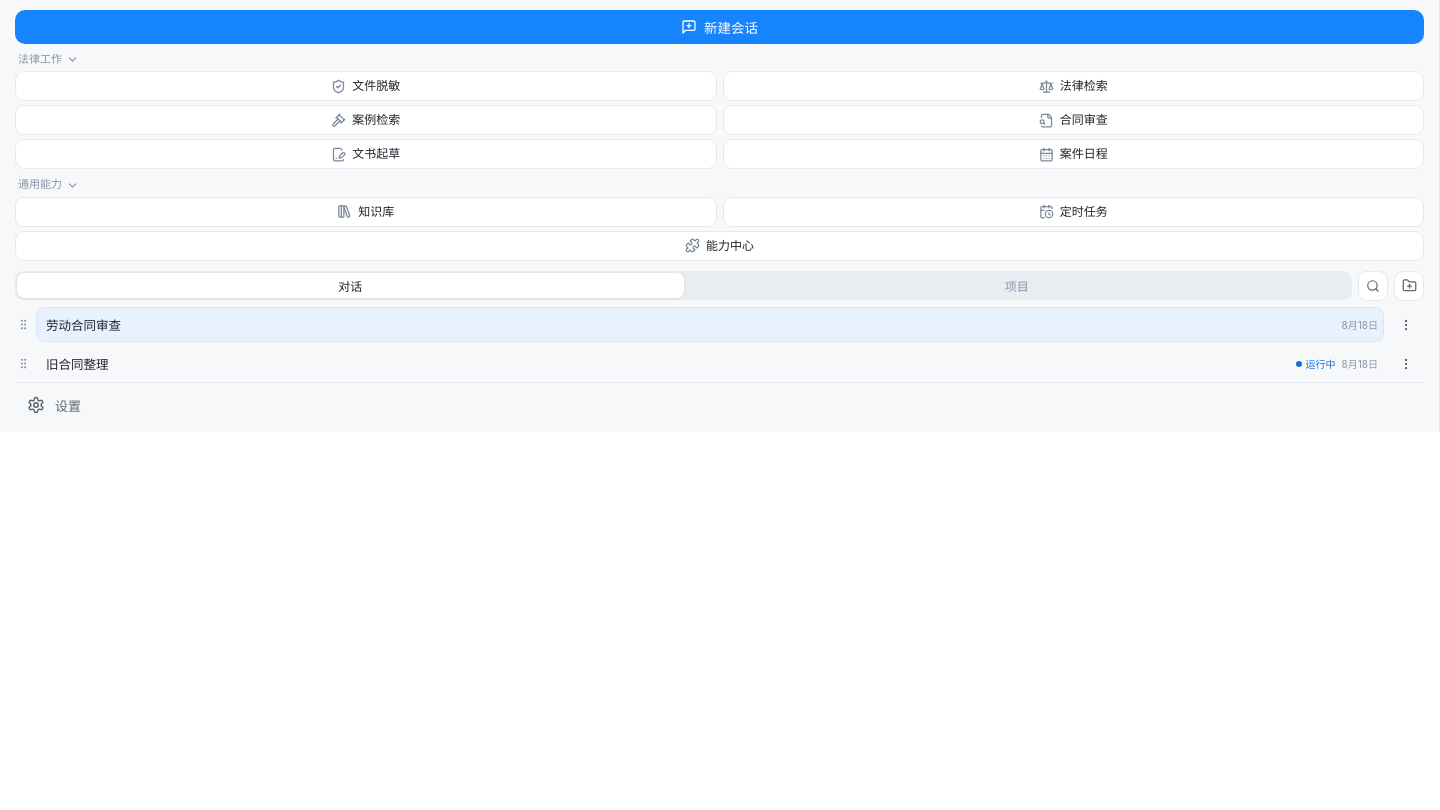
打开项目文件夹后分别收起功能分组，文件在会话上方并可切换项目
The image size is (1440, 810).
Click the tab "项目" at (1017, 286), box top-left (684, 273), bottom-right (1350, 298)
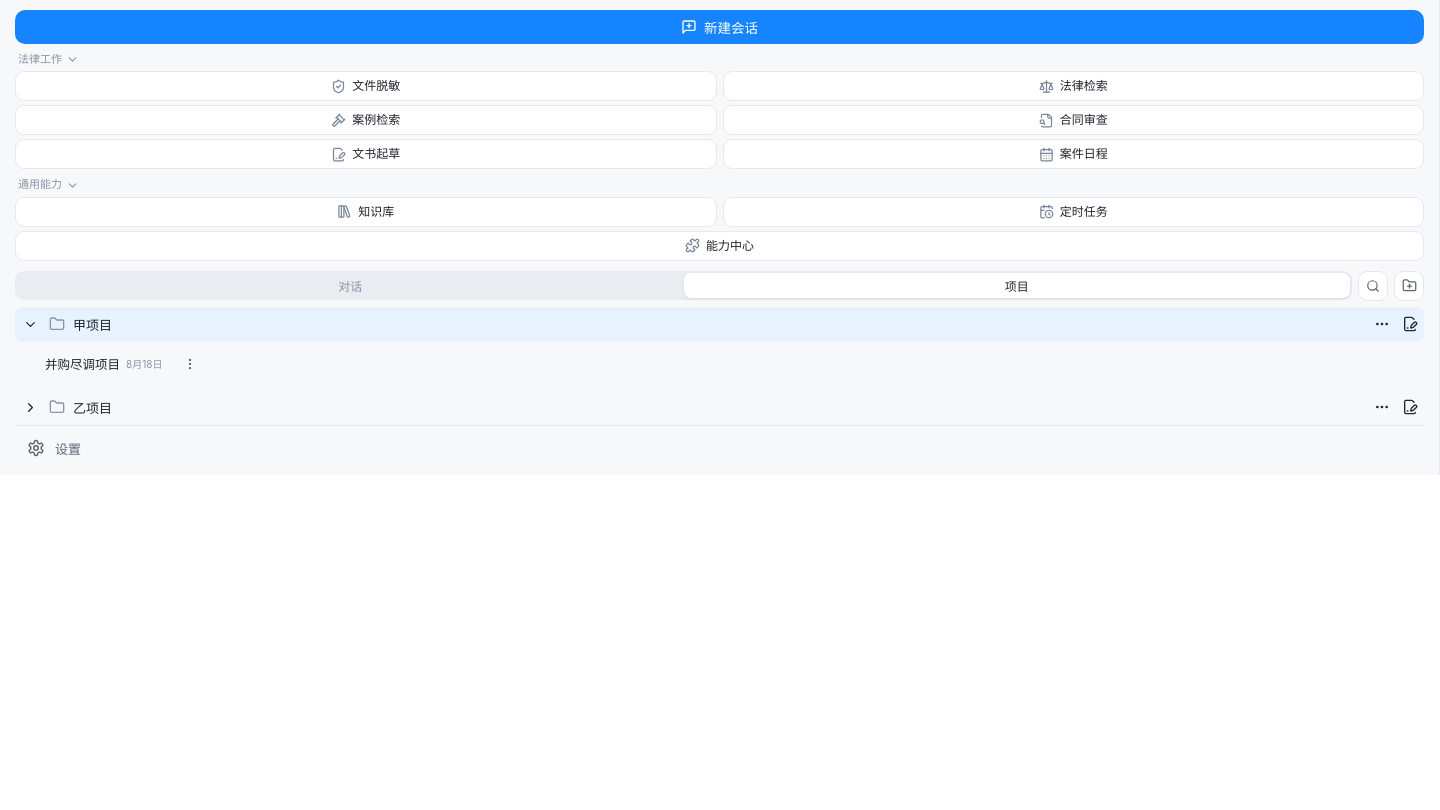
Click the button named "项目菜单：甲项目" at (1382, 324), box top-left (1368, 309), bottom-right (1396, 339)
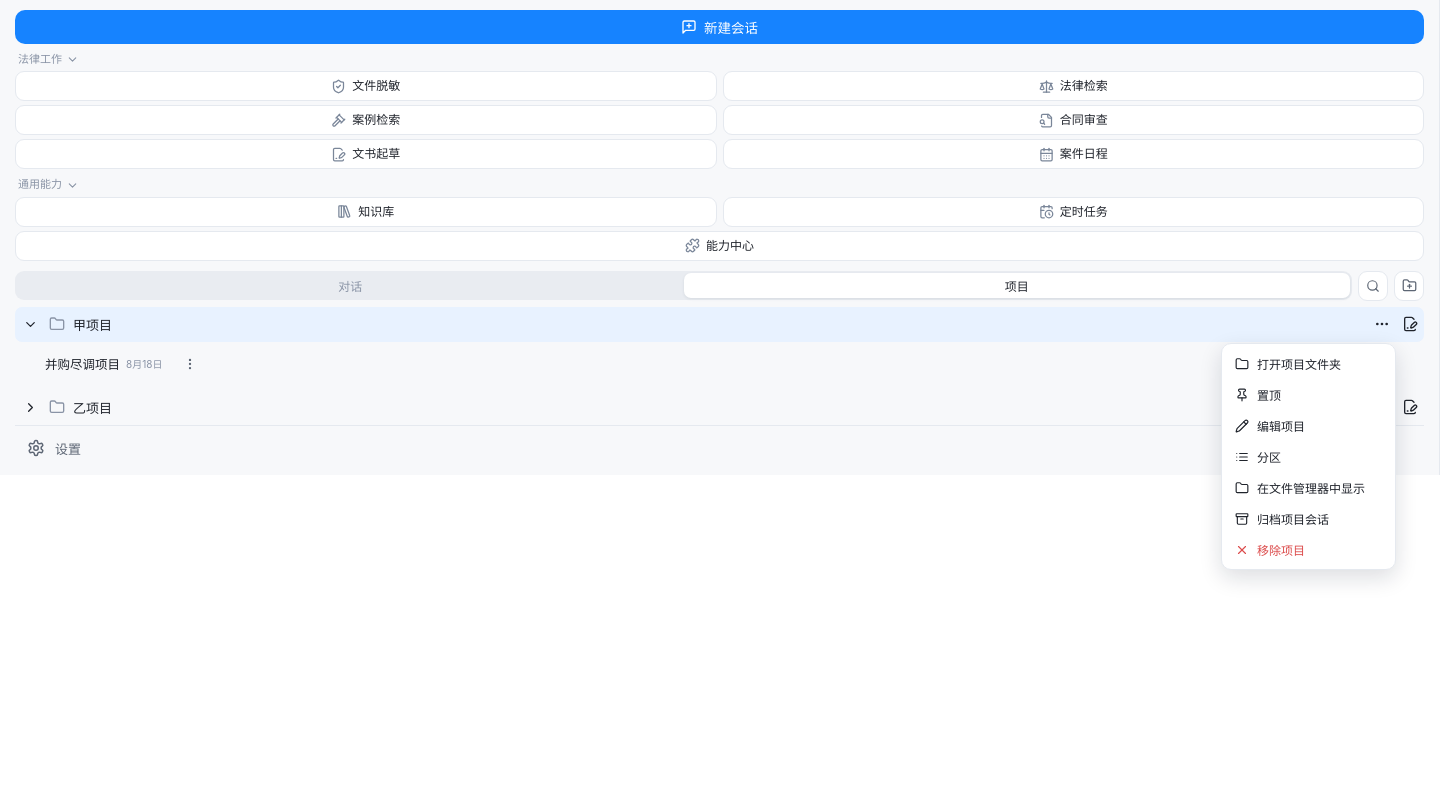
Click the menu item "打开项目文件夹" at (1308, 364), box top-left (1226, 348), bottom-right (1391, 379)
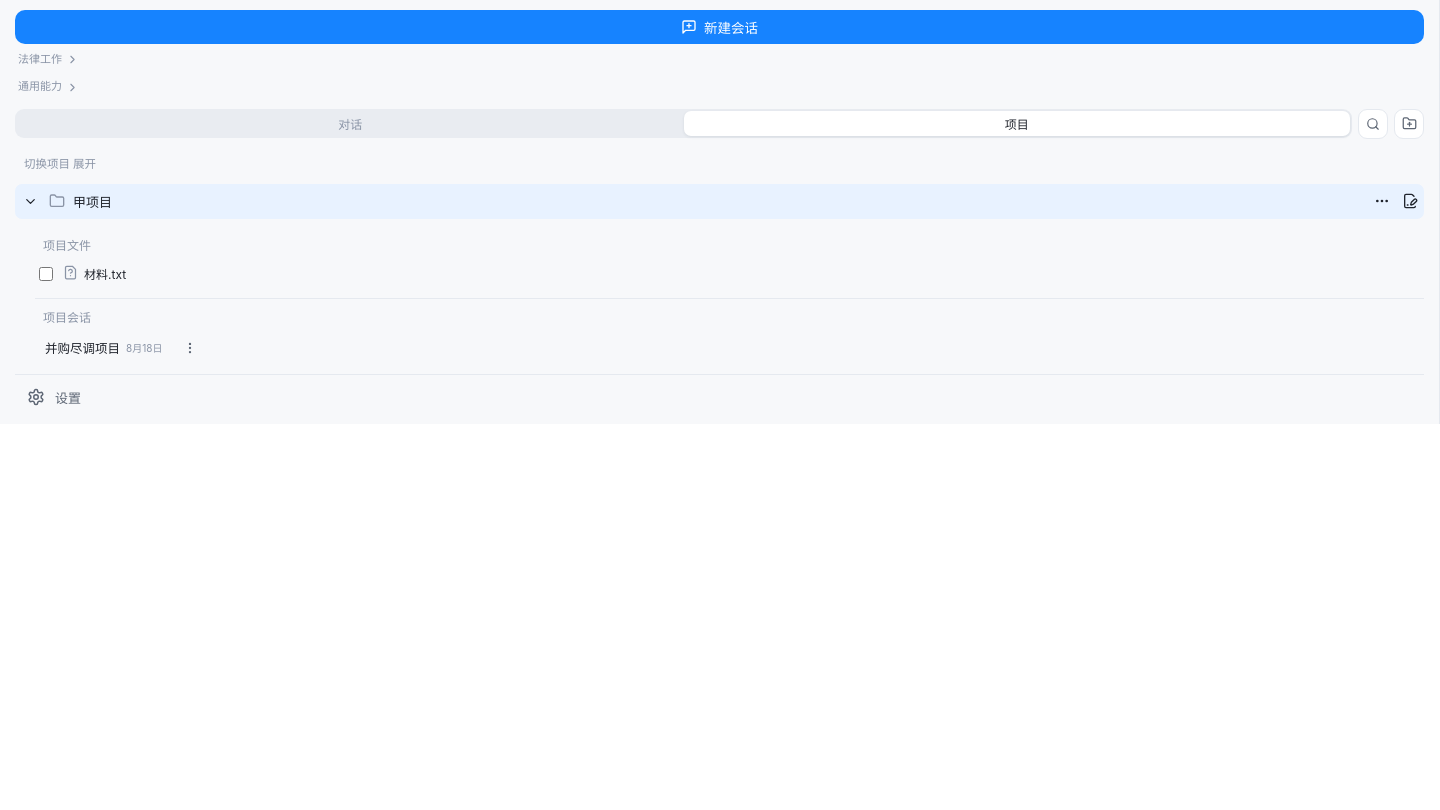
Result: the button "法律工作" is collapsed at top-left (18, 52), bottom-right (1421, 67)
Result: the button "通用能力" is collapsed at top-left (18, 79), bottom-right (1421, 95)
Result: the button "乙项目" is gone
Click the button "切换项目 展开" at (48, 164), box top-left (15, 148), bottom-right (1424, 178)
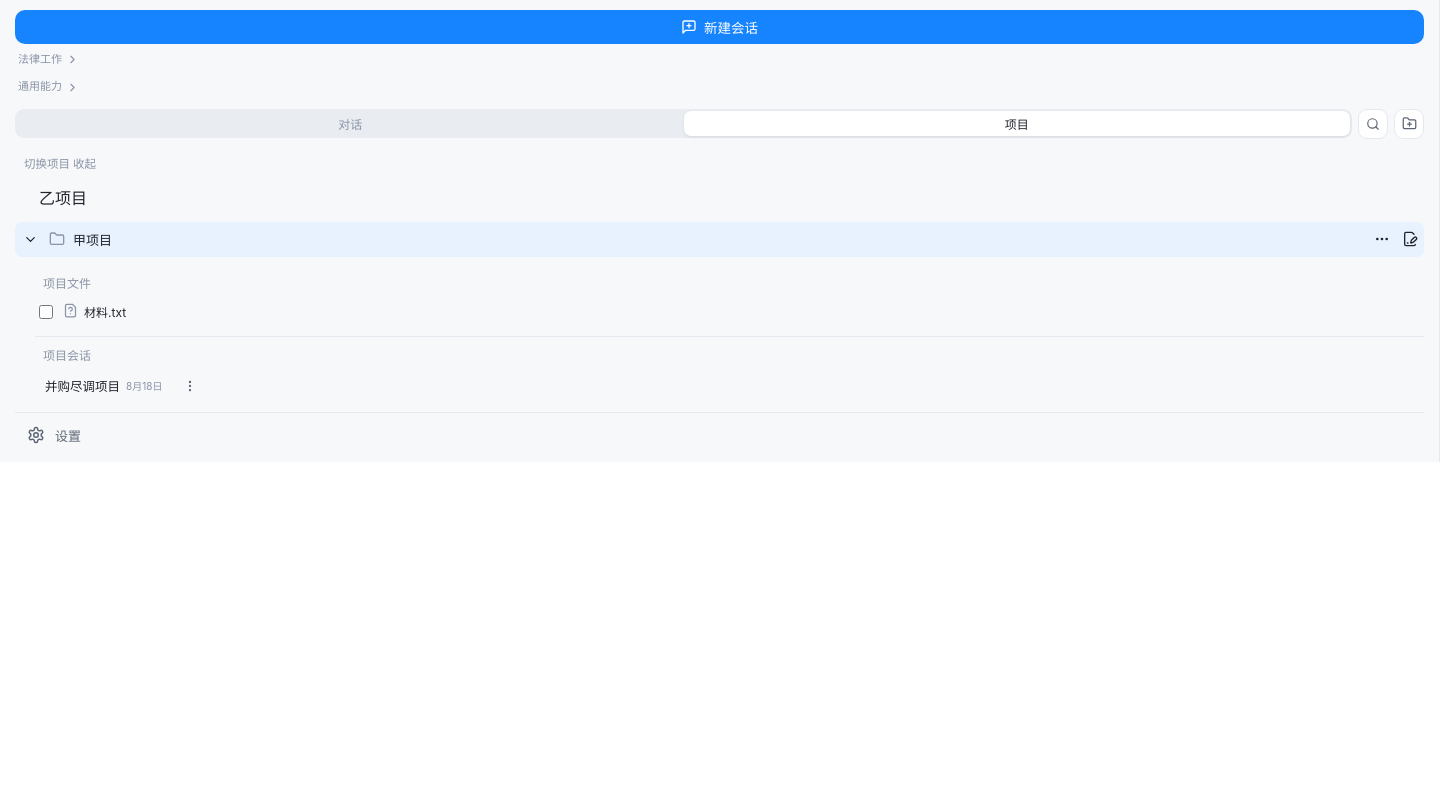
Click the button "乙项目" at (63, 198), box top-left (29, 178), bottom-right (1424, 216)
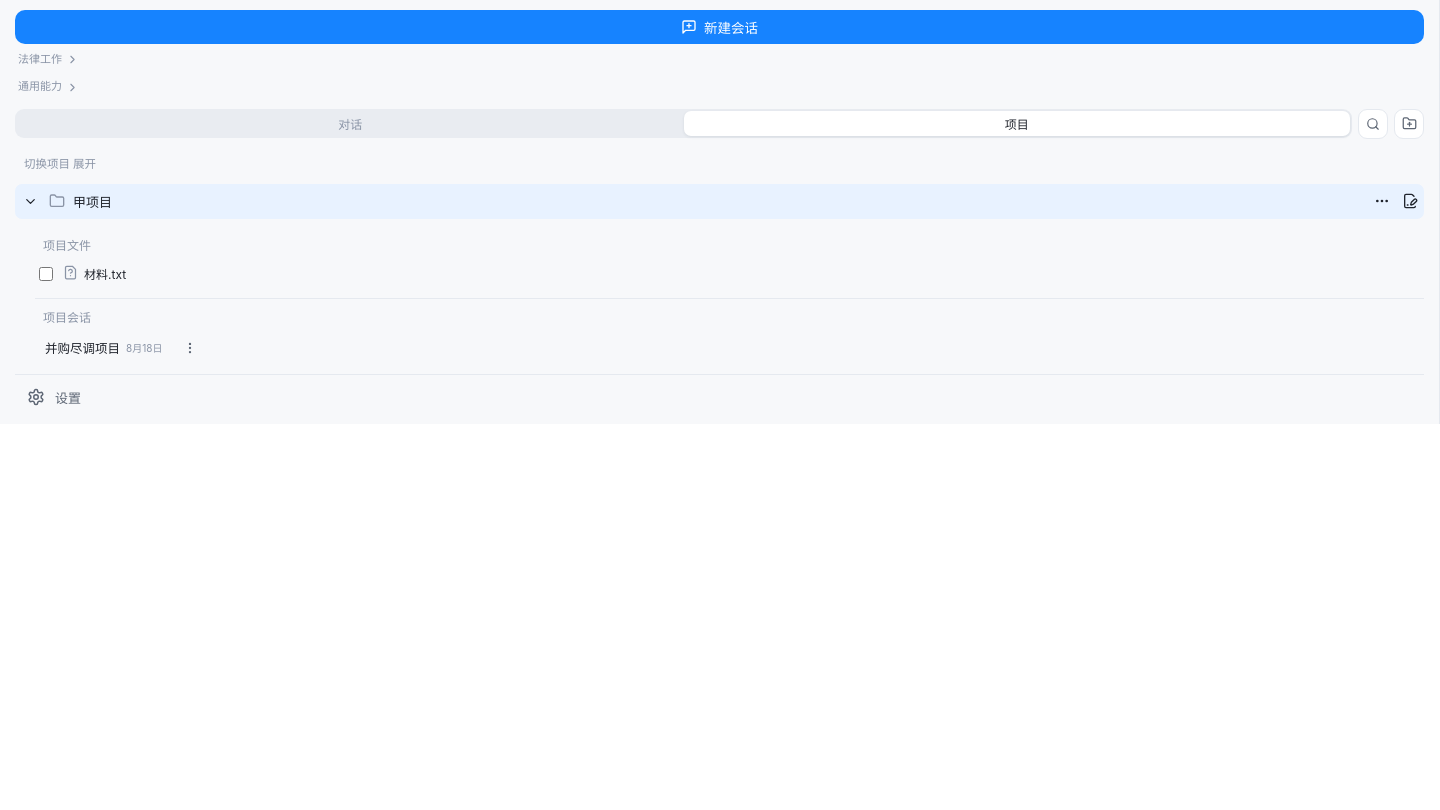
Click the button "法律工作" at (40, 59), box top-left (18, 52), bottom-right (1421, 67)
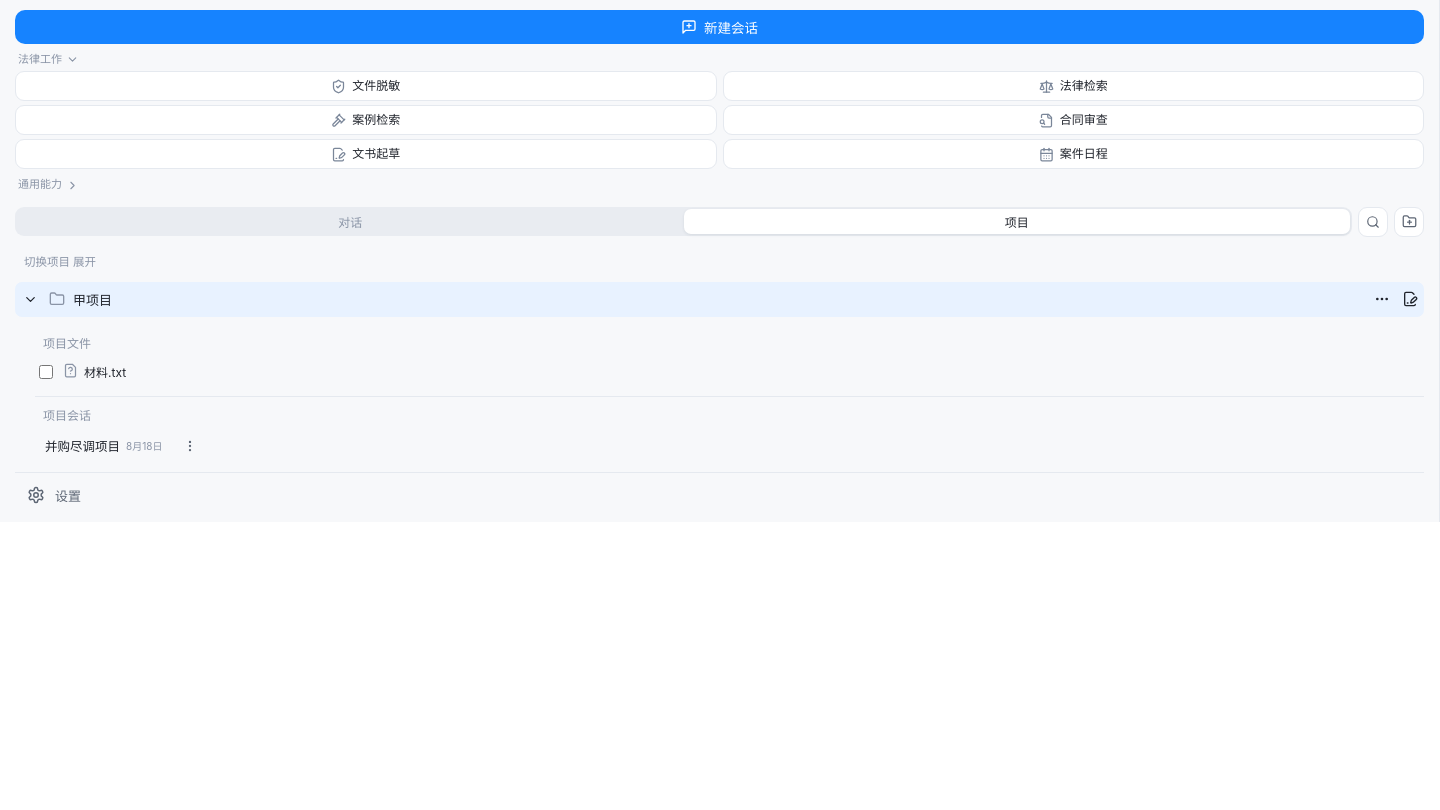
Expected: the button "知识库" is not shown
Result: the button "文件脱敏" is shown at top-left (15, 71), bottom-right (716, 101)
